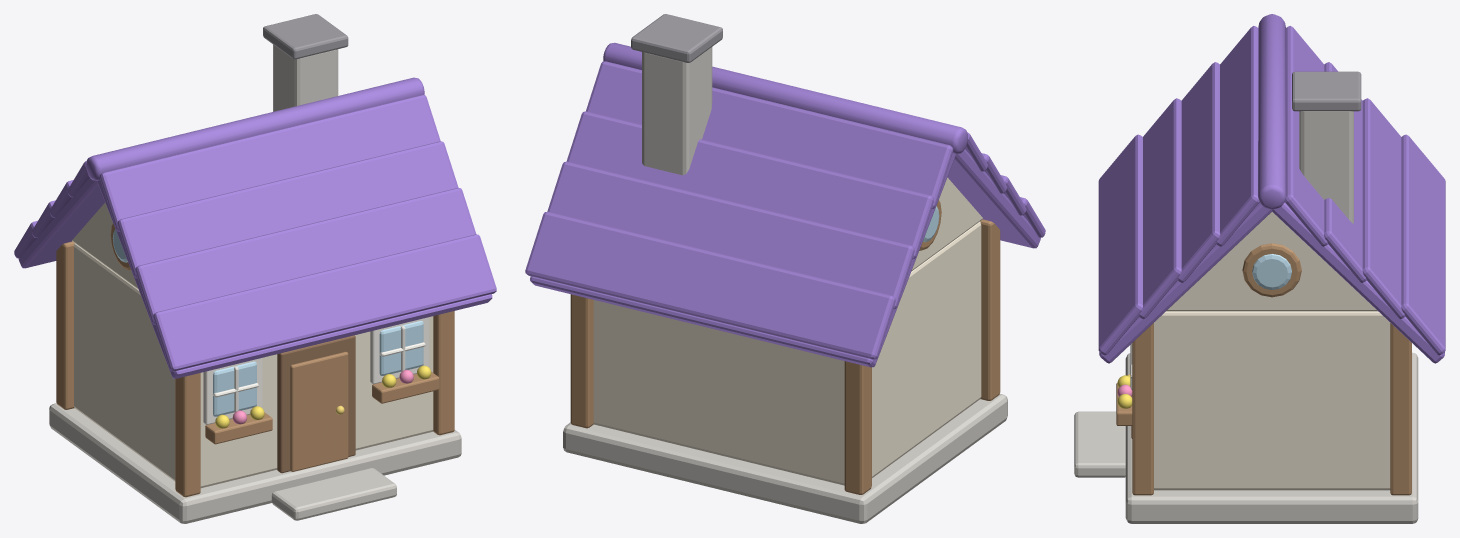
File: pw_rumah.glb
3 views of the same model, side by side, from view 1: azimuth 30°, elevation 25°; view 2: azimuth 150°, elevation 25°; view 3: azimuth 270°, elevation 25° (orthographic). The views are drawn at different scales.
Parts seen in each view (by area): view 1: Rumah1_wall.001, Rumah1_sh-13.001, Rumah1_sh-12.001, Rumah1_sh-11.001, Rumah1_sh-10.001, Rumah1_base.001, Rumah1_ridge.001, Rumah1_door.001, Rumah1_step.001, Rumah1_doorf.001, Rumah1_chim.001, Rumah1_slab-1.001 (+12 smaller); view 2: Rumah1_wall.001, Rumah1_sh13.001, Rumah1_sh12.001, Rumah1_sh11.001, Rumah1_sh10.001, Rumah1_base.001, Rumah1_chim.001, Rumah1_ridge.001, Rumah1_slab1.001, Rumah1_post-11.001, Rumah1_post-1-1.001, Rumah1_slab-1.001 (+3 smaller); view 3: Rumah1_wall.001, Rumah1_base.001, Rumah1_gable1.001, Rumah1_sh13.001, Rumah1_sh-13.001, Rumah1_sh12.001, Rumah1_sh-11.001, Rumah1_sh-12.001, Rumah1_sh-10.001, Rumah1_ridge.001, Rumah1_chim.001, Rumah1_sh10.001 (+9 smaller).
Boxes of the visible parts, <box> form: Rumah1_wall.001: <box>74,243,433,488</box>; Rumah1_sh-13.001: <box>153,234,496,371</box>; Rumah1_sh-12.001: <box>135,188,476,324</box>; Rumah1_sh-11.001: <box>117,141,458,278</box>; Rumah1_sh-10.001: <box>100,94,440,231</box>; Rumah1_base.001: <box>49,403,461,523</box>; Rumah1_ridge.001: <box>86,77,424,180</box>; Rumah1_door.001: <box>290,351,348,471</box>; Rumah1_step.001: <box>271,468,396,520</box>; Rumah1_doorf.001: <box>277,335,355,473</box>; Rumah1_chim.001: <box>273,44,338,111</box>; Rumah1_slab-1.001: <box>97,180,492,378</box>; Rumah1_wall.001: <box>593,221,981,485</box>; Rumah1_sh13.001: <box>525,211,895,359</box>; Rumah1_sh12.001: <box>547,161,914,309</box>; Rumah1_sh11.001: <box>566,111,933,259</box>; Rumah1_sh10.001: <box>585,61,953,209</box>; Rumah1_base.001: <box>563,394,1007,523</box>; Rumah1_chim.001: <box>642,47,712,175</box>; Rumah1_ridge.001: <box>603,42,967,153</box>; Rumah1_slab1.001: <box>530,153,955,367</box>; Rumah1_post-11.001: <box>844,361,871,494</box>; Rumah1_post-1-1.001: <box>980,219,1000,400</box>; Rumah1_slab-1.001: <box>947,149,1040,248</box>; Rumah1_wall.001: <box>1154,311,1390,490</box>; Rumah1_base.001: <box>1125,352,1418,523</box>; Rumah1_gable1.001: <box>1166,212,1377,311</box>; Rumah1_sh13.001: <box>1401,134,1445,355</box>; Rumah1_sh-13.001: <box>1098,134,1142,355</box>; Rumah1_sh12.001: <box>1362,98,1405,318</box>; Rumah1_sh-11.001: <box>1177,62,1220,282</box>; Rumah1_sh-12.001: <box>1139,98,1181,318</box>; Rumah1_sh-10.001: <box>1216,26,1259,246</box>; Rumah1_ridge.001: <box>1258,14,1286,209</box>; Rumah1_chim.001: <box>1299,111,1353,223</box>; Rumah1_sh10.001: <box>1284,26,1327,246</box>.
Size of the model in its own units: 5.19 by 5.65 by 4.68.
